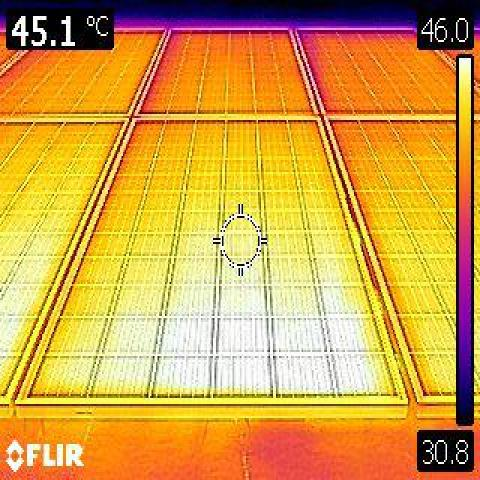fault: (164, 302, 356, 389)
